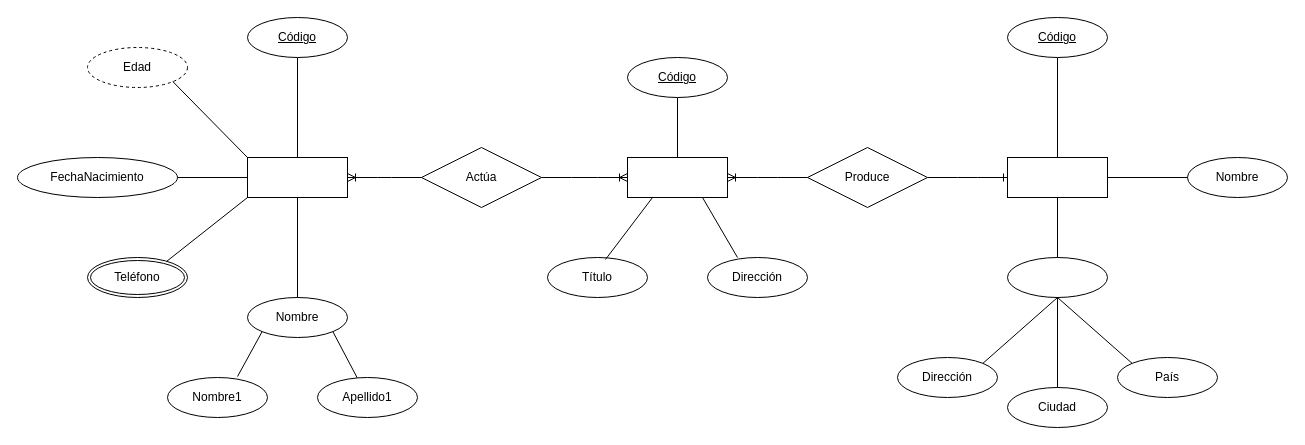
Image size: 1305x445. Some labels were removed from this diagram. Each missing label, with the box of its shape:
Actor: (246, 156, 348, 198)
Domicilio: (1006, 256, 1108, 298)
Estudio: (1006, 156, 1108, 198)
Película: (626, 156, 728, 198)
